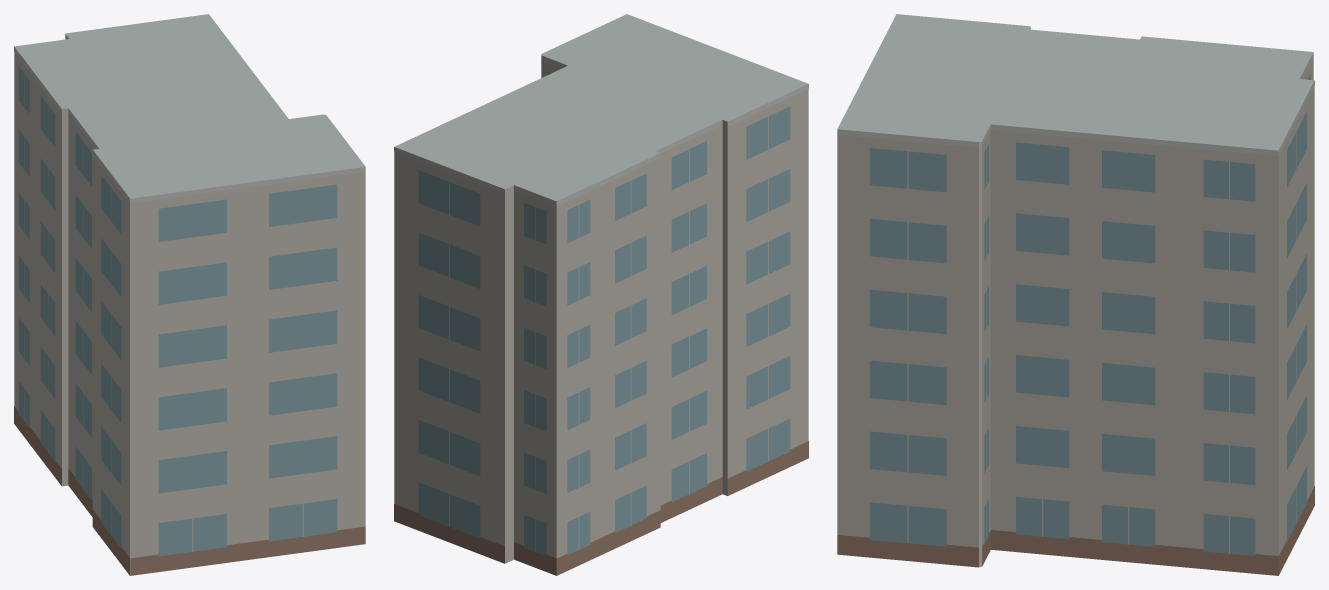
File: survey-upis-32678260.glb
3 renders of one model, left to right at view 1: azimuth 30°, elevation 25°; view 2: azimuth 150°, elevation 25°; view 3: azimuth 270°, elevation 25°, orthographic. The views are drawn at different scales.
Visible parts, largest first — view 1: survey-upis-32678260.tmp; view 2: survey-upis-32678260.tmp; view 3: survey-upis-32678260.tmp.
Boxes of the visible parts, left/top/right/bottom form: survey-upis-32678260.tmp: left=14, top=14, right=365, bottom=575; survey-upis-32678260.tmp: left=394, top=14, right=808, bottom=575; survey-upis-32678260.tmp: left=837, top=14, right=1314, bottom=575.
Bounding box in the file's own units: 12.61 × 18.3 × 18.63.
